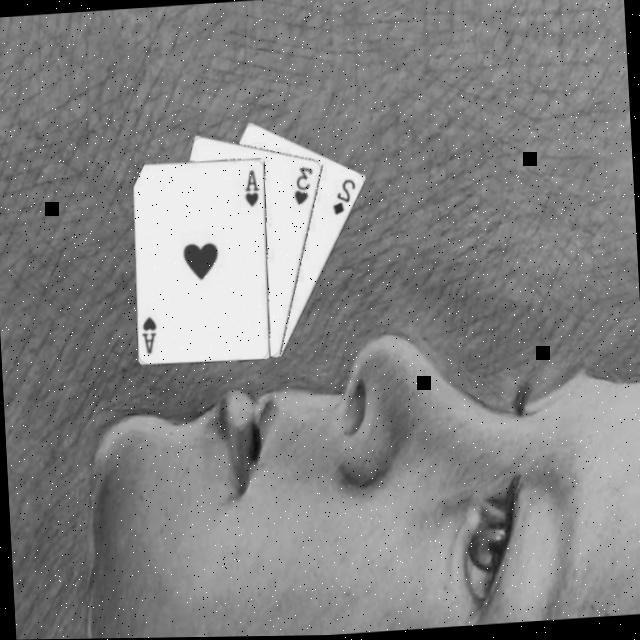2D: (331, 177, 363, 219)
3H: (292, 164, 319, 209)
AH: (243, 168, 265, 211), (140, 315, 162, 358)
